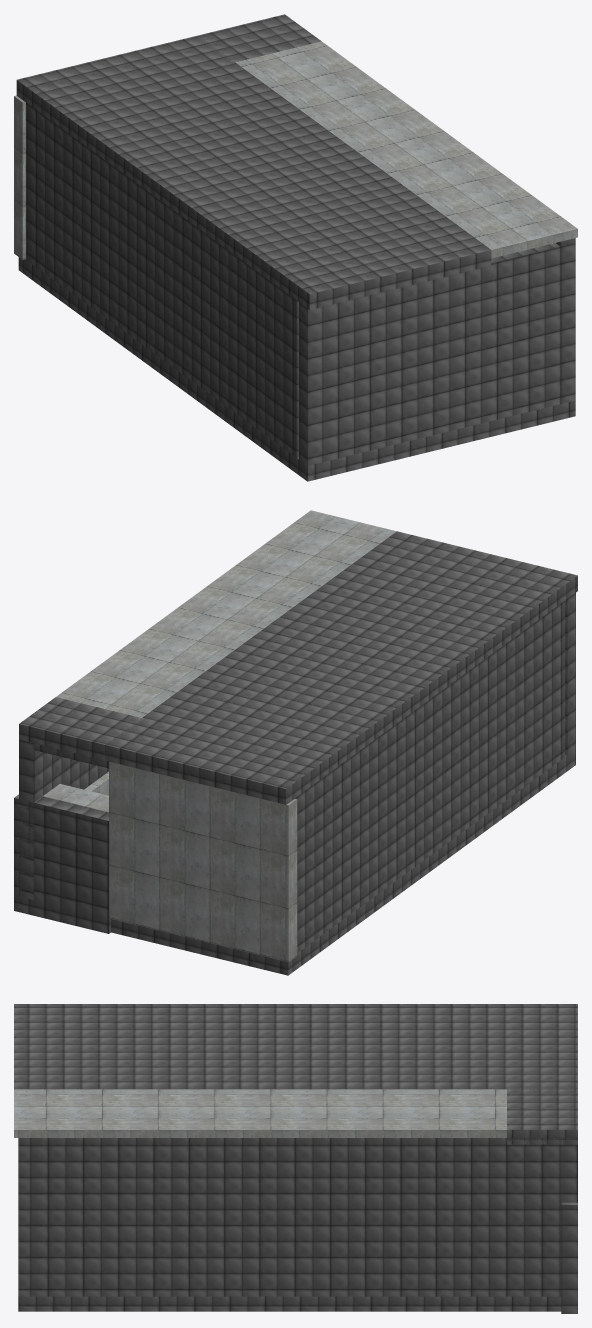
Rendered from Level_35.fbx.
The picture shows the model from 3 angles, top to bottom: view 1: azimuth 30°, elevation 25°; view 2: azimuth 150°, elevation 25°; view 3: azimuth 270°, elevation 25°; orthographic projection. The views are drawn at different scales.
Visible parts, largest first — view 1: NoTeleport.024, Wall.025; view 2: NoTeleport.024, Wall.025; view 3: NoTeleport.024, Wall.025.
Boxes of the visible parts, x1,y1,x2,y2 form: NoTeleport.024: [16, 14, 575, 481]; Wall.025: [14, 41, 577, 259]; NoTeleport.024: [14, 531, 577, 975]; Wall.025: [43, 510, 396, 961]; NoTeleport.024: [14, 1004, 577, 1313]; Wall.025: [14, 1089, 506, 1137].
Bounding box in the file's own units: 18.33 × 33.75 × 12.
